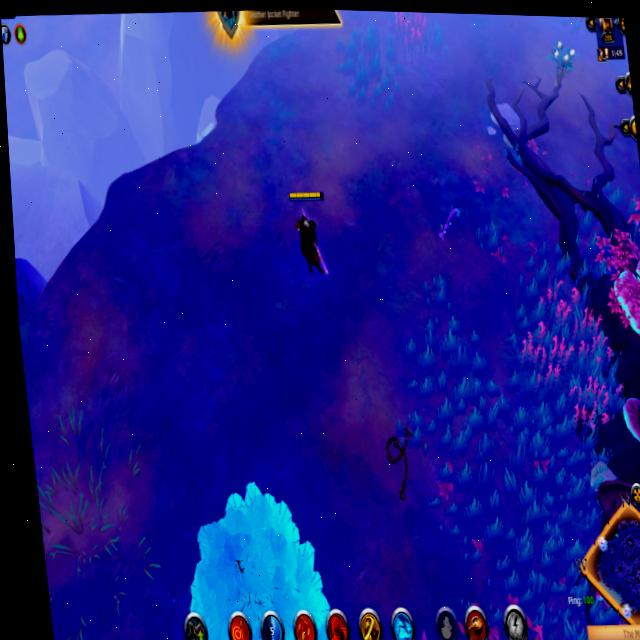hide: (546, 31, 580, 89)
red: (284, 183, 335, 281)
wisp caged: (168, 469, 340, 640)
